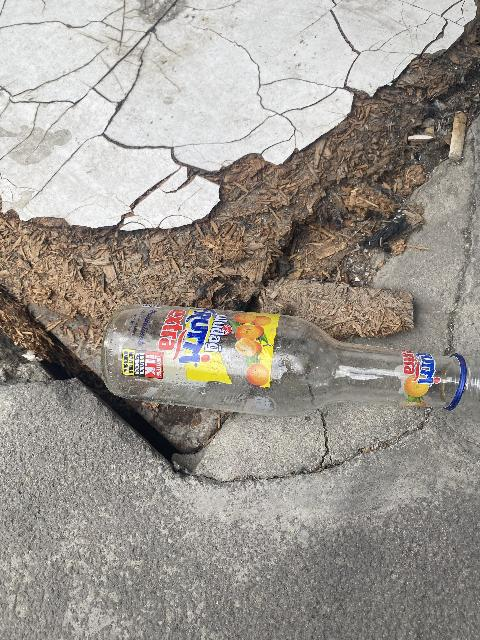Cam: (103, 303, 480, 405)
Organik: (449, 108, 470, 159)
Plastik: (124, 295, 275, 394), (392, 337, 443, 406)
